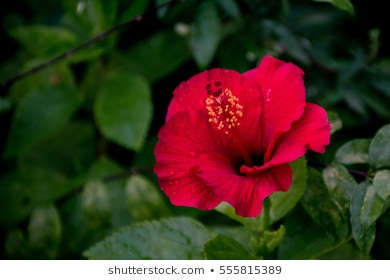Hibiscus: (145, 48, 326, 218)
